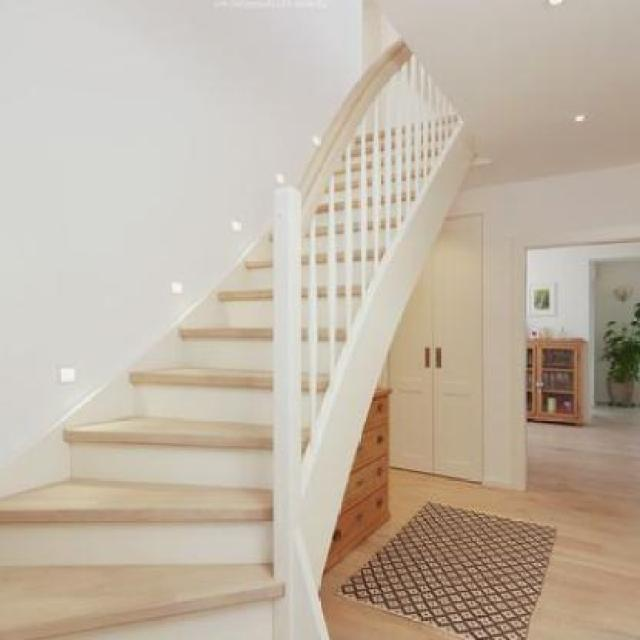stair: (0, 96, 506, 638)
